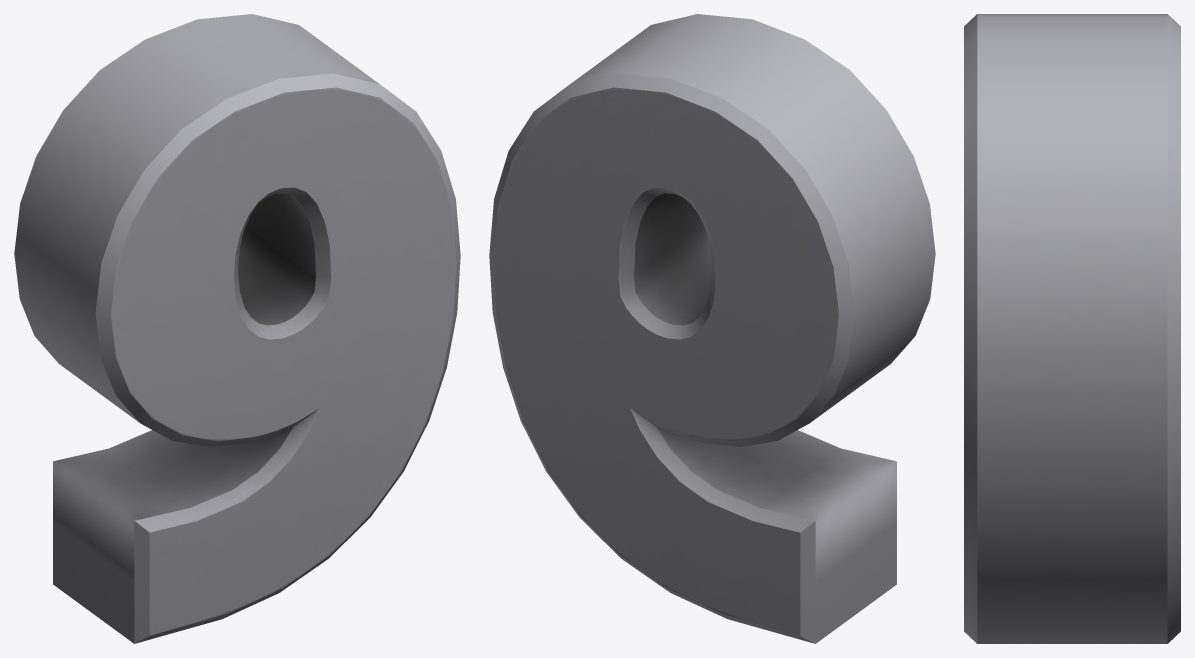
File: 9_static.fbx
The picture shows the model from 3 angles, left to right: view 1: azimuth 30°, elevation 25°; view 2: azimuth 150°, elevation 25°; view 3: azimuth 270°, elevation 25°; orthographic projection. The views are drawn at different scales.
Visible parts, largest first — view 1: 9_static; view 2: 9_static; view 3: 9_static.
Boxes of the visible parts, x1=… form: 9_static: x1=14, y1=14, x2=460, y2=643; 9_static: x1=489, y1=14, x2=935, y2=643; 9_static: x1=964, y1=14, x2=1180, y2=643.
Bounding box in the file's own units: 75.25 × 104 × 33.
